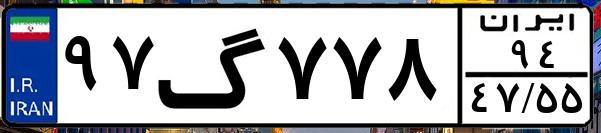4: (537, 27, 568, 80), (470, 70, 495, 125)
5: (560, 70, 590, 125), (535, 70, 560, 125)
7: (270, 28, 330, 110), (330, 28, 385, 110), (110, 28, 156, 98), (495, 70, 520, 125)
8: (385, 28, 445, 110)
9: (57, 26, 110, 100), (508, 27, 537, 80)
گ: (156, 12, 270, 120)
